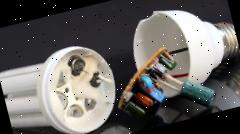lightbulb: (123, 0, 240, 105), (0, 37, 125, 134)
